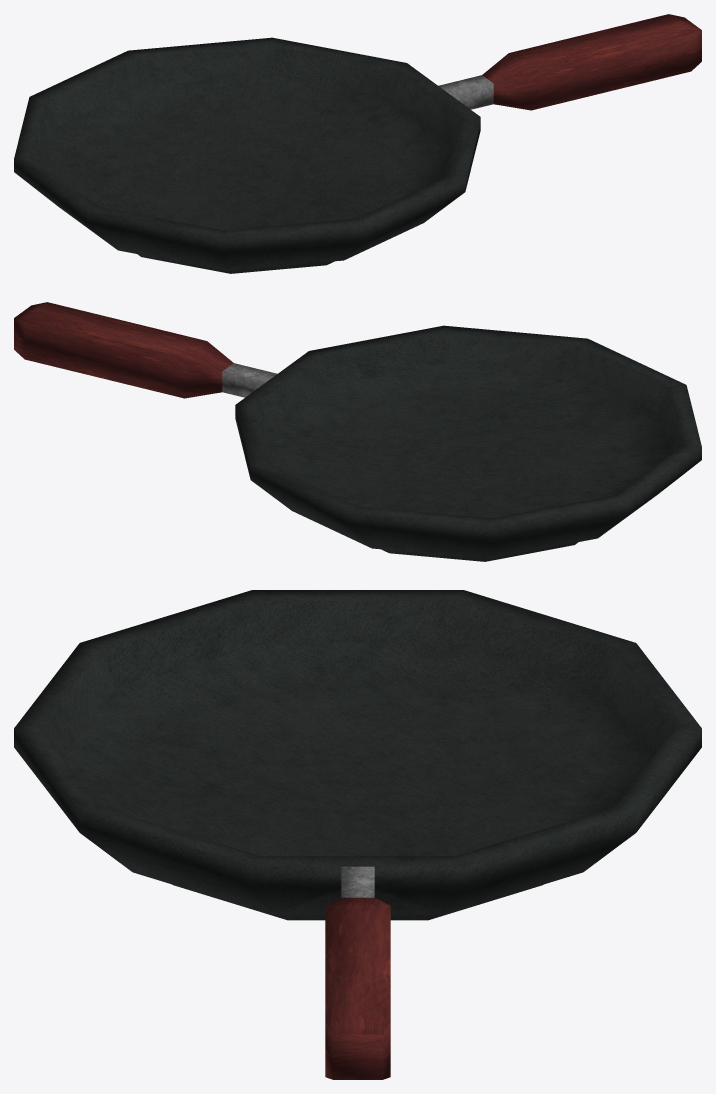
Rendered from pan.glb.
3 views of the same model, one above another, from view 1: azimuth 30°, elevation 25°; view 2: azimuth 150°, elevation 25°; view 3: azimuth 270°, elevation 25° (orthographic). The views are drawn at different scales.
Parts seen in each view (by area): view 1: blat#$conf|0|PR41RK#$top|1.028_33, blat#$conf|0|PR41RK#$top|1.098_103, blat#$conf|0|PR41RK#$top|1.099_104; view 2: blat#$conf|0|PR41RK#$top|1.028_33, blat#$conf|0|PR41RK#$top|1.098_103, blat#$conf|0|PR41RK#$top|1.099_104; view 3: blat#$conf|0|PR41RK#$top|1.028_33, blat#$conf|0|PR41RK#$top|1.098_103, blat#$conf|0|PR41RK#$top|1.099_104.
Boxes of the visible parts, box(x1,y1,x2,y2) form: blat#$conf|0|PR41RK#$top|1.028_33: box(14, 37, 480, 273); blat#$conf|0|PR41RK#$top|1.098_103: box(482, 14, 701, 110); blat#$conf|0|PR41RK#$top|1.099_104: box(438, 75, 493, 109); blat#$conf|0|PR41RK#$top|1.028_33: box(235, 325, 701, 561); blat#$conf|0|PR41RK#$top|1.098_103: box(14, 302, 233, 398); blat#$conf|0|PR41RK#$top|1.099_104: box(222, 363, 277, 397); blat#$conf|0|PR41RK#$top|1.028_33: box(14, 590, 701, 920); blat#$conf|0|PR41RK#$top|1.098_103: box(325, 897, 390, 1079); blat#$conf|0|PR41RK#$top|1.099_104: box(341, 866, 374, 897).
Bounding box in the file's own units: 1.02 × 0.1206 × 0.6574.
3 materials, 3 textured.
